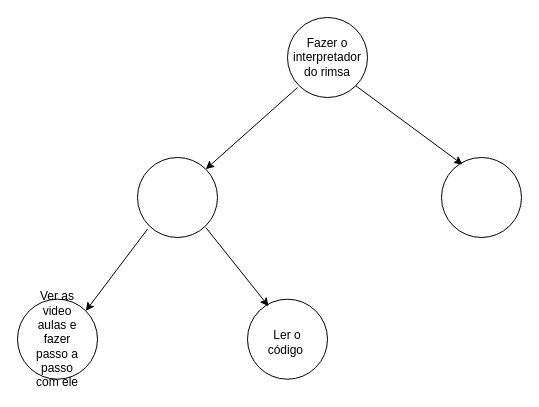
Image size: 539x407. Some labels were removed from this diagram. The centre of each missing label's shape, as x and y in pixels:
Imitar a Rimsa: the point at 177,197
ver as videos aulas: the point at 481,197
